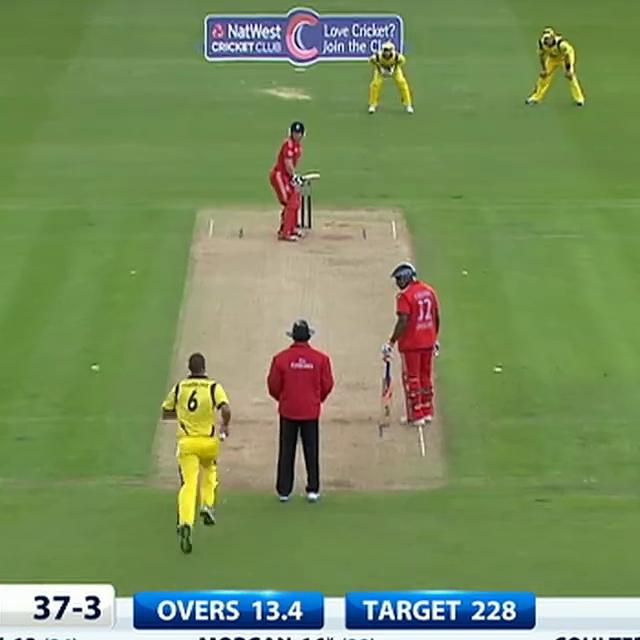umpire: (256, 313, 344, 505)
